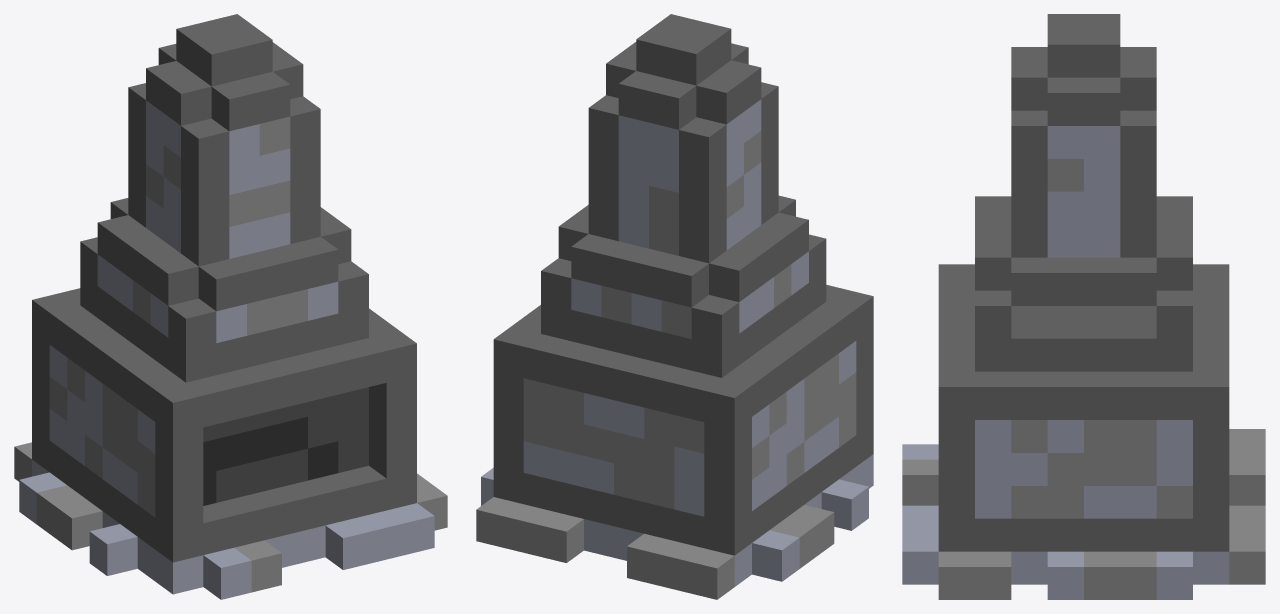
The model's file is Medieval Assets-188-Graveyard - Grave Stone - Tall.obj.
3 renders of one model, left to right at view 1: azimuth 30°, elevation 25°; view 2: azimuth 150°, elevation 25°; view 3: azimuth 270°, elevation 25°, orthographic. The views are drawn at different scales.
Visible parts, largest first — view 1: Graveyard - Grave Stone - Tall; view 2: Graveyard - Grave Stone - Tall; view 3: Graveyard - Grave Stone - Tall.
Part boxes in pixels (x1,y1,x2,y2): Graveyard - Grave Stone - Tall: (14, 14, 447, 599); Graveyard - Grave Stone - Tall: (476, 14, 873, 599); Graveyard - Grave Stone - Tall: (902, 14, 1265, 599).
Size of the model in its own units: 1 by 1.5 by 1.
1 material, 1 textured.
